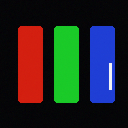4 line_v: (109, 63, 111, 89)
